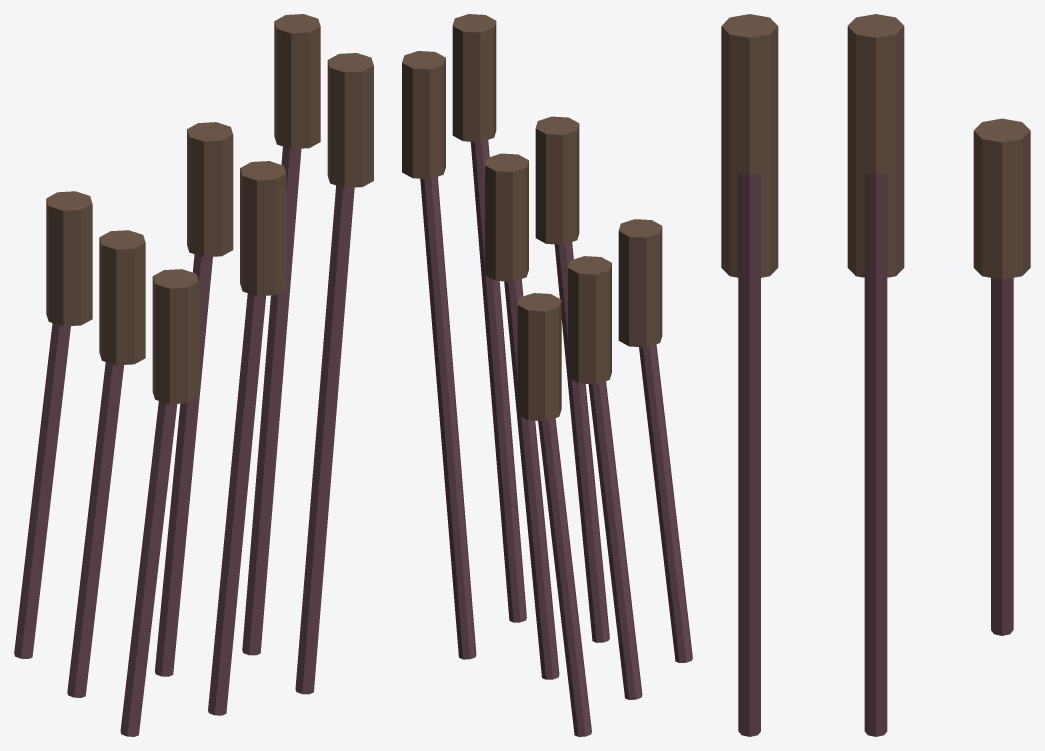
Rendered from SH10_L05_Reeds.fbx.
The picture shows the model from 3 angles, left to right: view 1: azimuth 30°, elevation 25°; view 2: azimuth 150°, elevation 25°; view 3: azimuth 270°, elevation 25°; orthographic projection. The views are drawn at different scales.
Parts seen in each view (by area): view 1: SH10_L05_Reeds; view 2: SH10_L05_Reeds; view 3: SH10_L05_Reeds.
Part boxes in pixels (left/top/right/bottom): SH10_L05_Reeds: left=14, top=14, right=373, bottom=736; SH10_L05_Reeds: left=402, top=14, right=692, bottom=736; SH10_L05_Reeds: left=721, top=14, right=1030, bottom=736.
Size of the model in its own units: 54.29 by 128 by 49.
